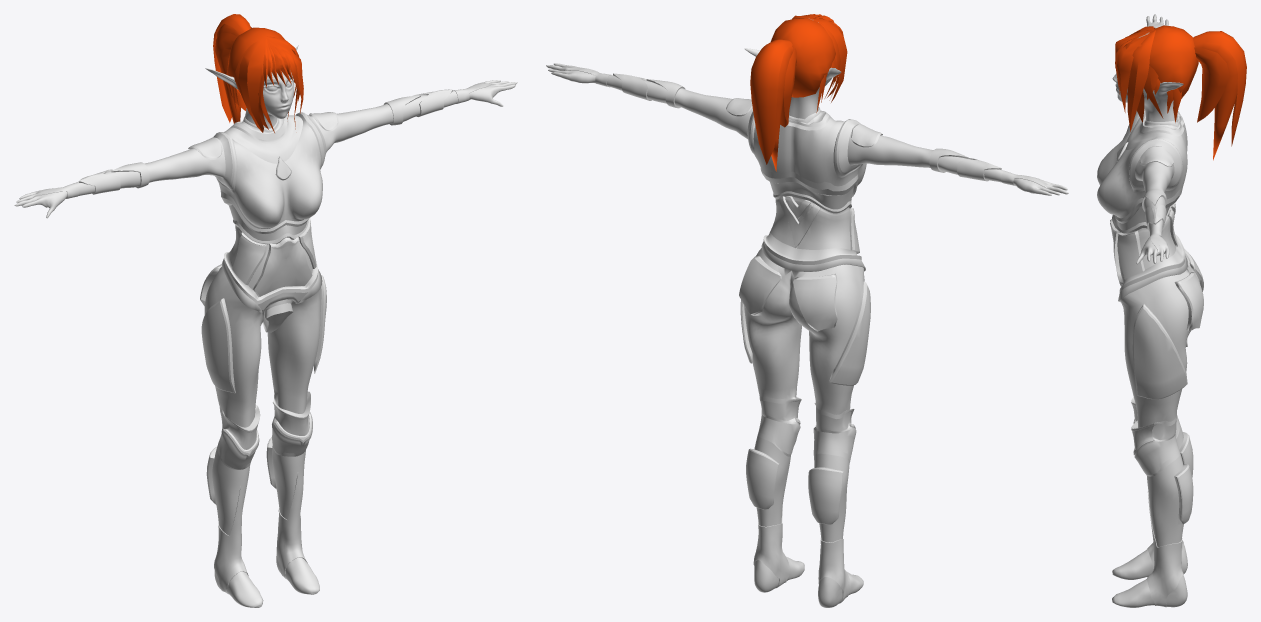
File: elf.fbx
3 renders of one model, left to right at view 1: azimuth 30°, elevation 25°; view 2: azimuth 150°, elevation 25°; view 3: azimuth 270°, elevation 25°, orthographic. The views are drawn at different scales.
Visible parts, largest first — view 1: Retopo_IMPORT.007, Retopo_IMPORT.008; view 2: Retopo_IMPORT.007, Retopo_IMPORT.008; view 3: Retopo_IMPORT.007, Retopo_IMPORT.008.
Boxes of the visible parts, x1,y1,x2,y2 form: Retopo_IMPORT.007: [14, 45, 517, 607]; Retopo_IMPORT.008: [213, 14, 303, 132]; Retopo_IMPORT.007: [546, 18, 1068, 607]; Retopo_IMPORT.008: [750, 14, 847, 171]; Retopo_IMPORT.007: [1097, 14, 1203, 607]; Retopo_IMPORT.008: [1115, 25, 1246, 160].
Size of the model in its own units: 1379 by 1451 by 350.
